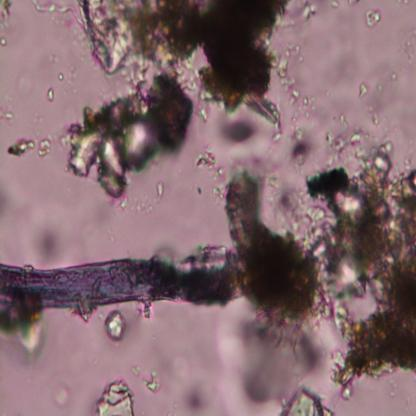Background material: (301, 134, 416, 398), (74, 0, 292, 128), (222, 165, 324, 336), (58, 72, 192, 197), (229, 308, 327, 400), (0, 306, 49, 363), (328, 8, 361, 88), (367, 60, 410, 120), (324, 117, 372, 170), (28, 213, 70, 266), (276, 384, 334, 416), (200, 141, 225, 206), (274, 44, 300, 106), (97, 378, 135, 416), (223, 112, 259, 151), (0, 183, 32, 223), (289, 124, 315, 165), (31, 0, 78, 20), (132, 362, 161, 394), (15, 66, 38, 100), (118, 197, 154, 216), (106, 309, 126, 343), (182, 383, 204, 413), (0, 1, 14, 48), (7, 135, 35, 158), (292, 98, 317, 123), (403, 29, 415, 66), (296, 4, 320, 22), (364, 9, 382, 31), (37, 139, 51, 158), (156, 180, 166, 202), (357, 81, 368, 98), (0, 110, 14, 122), (46, 90, 56, 103)
Cotton: (0, 256, 235, 310)
